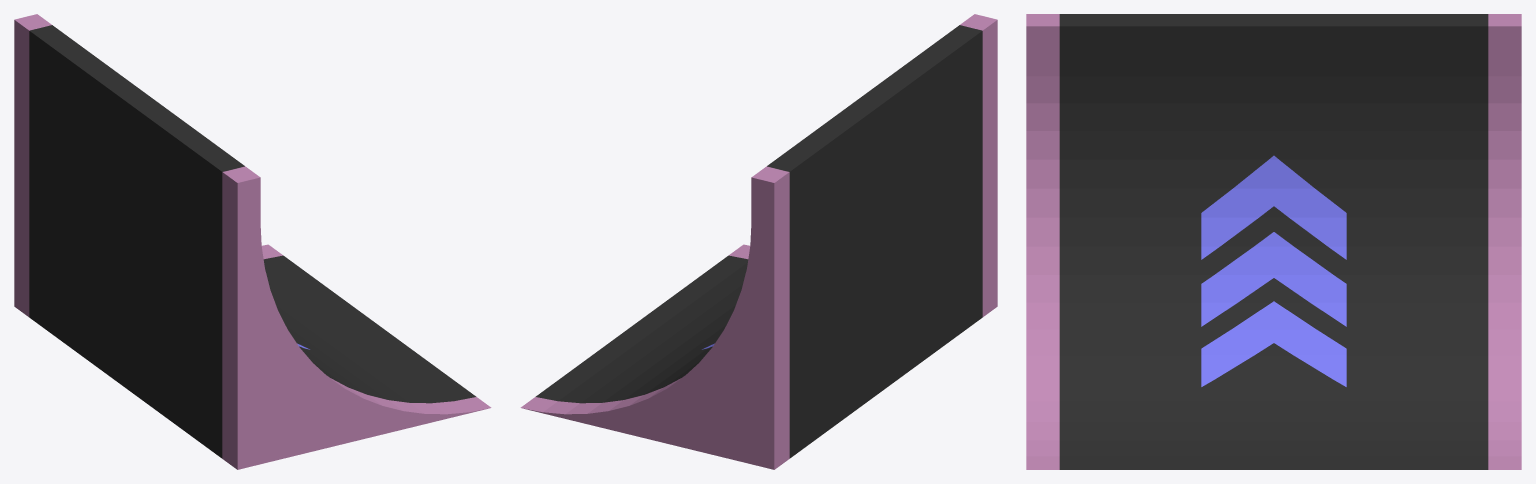
File: QuarterPipe.fbx
3 renders of one model, left to right at view 1: azimuth 30°, elevation 25°; view 2: azimuth 150°, elevation 25°; view 3: azimuth 270°, elevation 25°, orthographic. The views are drawn at different scales.
Parts seen in each view (by area): view 1: Circle; view 2: Circle; view 3: Circle.
Part boxes in pixels (bbox=[...]): Circle: bbox=[14, 14, 491, 469]; Circle: bbox=[520, 14, 997, 469]; Circle: bbox=[1026, 14, 1521, 469].
Size of the model in its own units: 789 by 851 by 1200.
